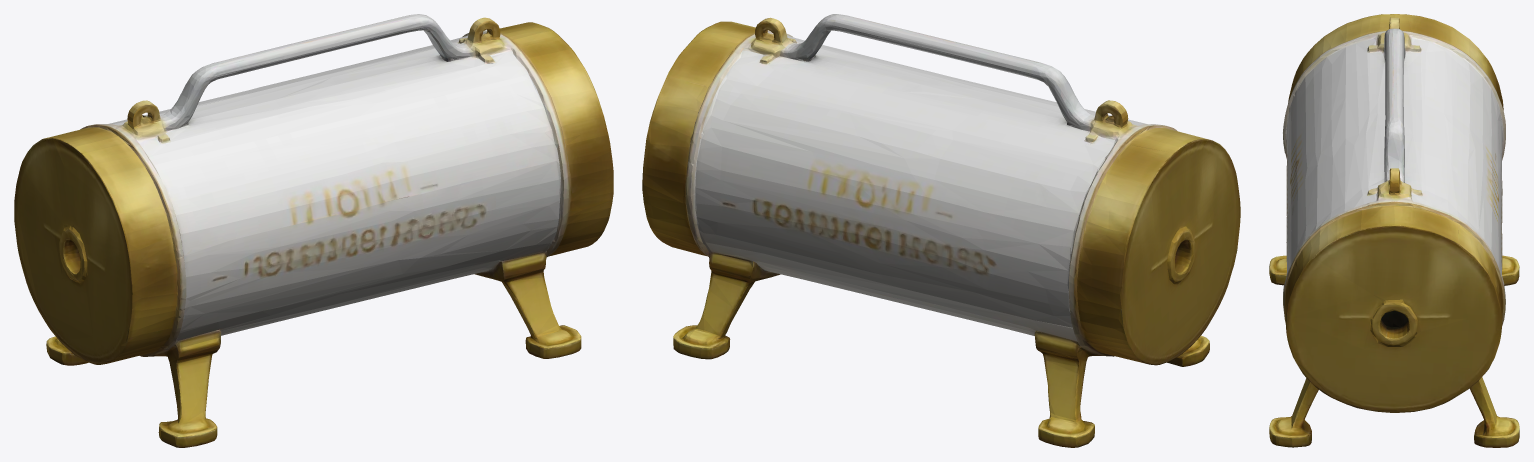
Rendered from white_claymore.glb.
3 renders of one model, left to right at view 1: azimuth 30°, elevation 25°; view 2: azimuth 150°, elevation 25°; view 3: azimuth 270°, elevation 25°, orthographic. The views are drawn at different scales.
Visible parts, largest first — view 1: geometry_0; view 2: geometry_0; view 3: geometry_0.
Boxes of the visible parts, <box> form: geometry_0: <box>14,14,613,447</box>; geometry_0: <box>642,14,1240,447</box>; geometry_0: <box>1269,14,1519,447</box>.
Size of the model in its own units: 0.9992 by 0.6159 by 0.4933.
1 material, 1 textured.
